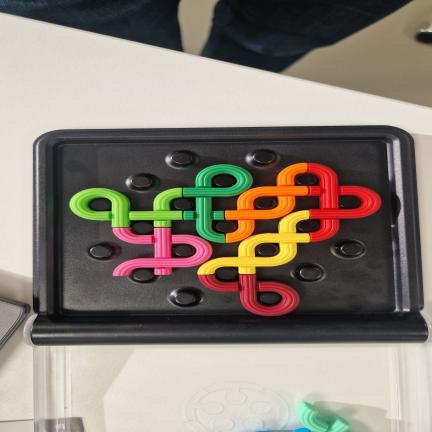A_Yellow: (198, 211, 309, 274)
D_Green: (183, 165, 252, 242)
E_Red: (306, 164, 381, 241)
G_Pink: (113, 228, 212, 275)
I_Orange: (225, 164, 309, 242)
J_DarkRed: (199, 274, 299, 316)
K_YellowGreen: (70, 188, 183, 228)
board: (32, 126, 426, 345)
hinge: (24, 314, 432, 341)
pin: (255, 243, 279, 257), (298, 267, 322, 280), (252, 150, 274, 164), (132, 268, 154, 282), (89, 245, 112, 258), (340, 243, 363, 256), (215, 267, 238, 280), (259, 292, 282, 305), (339, 195, 360, 209), (89, 198, 111, 211), (174, 244, 196, 257), (213, 175, 236, 187), (171, 152, 192, 165), (175, 292, 196, 305), (299, 219, 318, 233), (216, 220, 236, 233), (131, 176, 152, 188), (255, 197, 276, 209), (132, 222, 153, 234), (297, 174, 317, 186), (173, 198, 193, 210)
